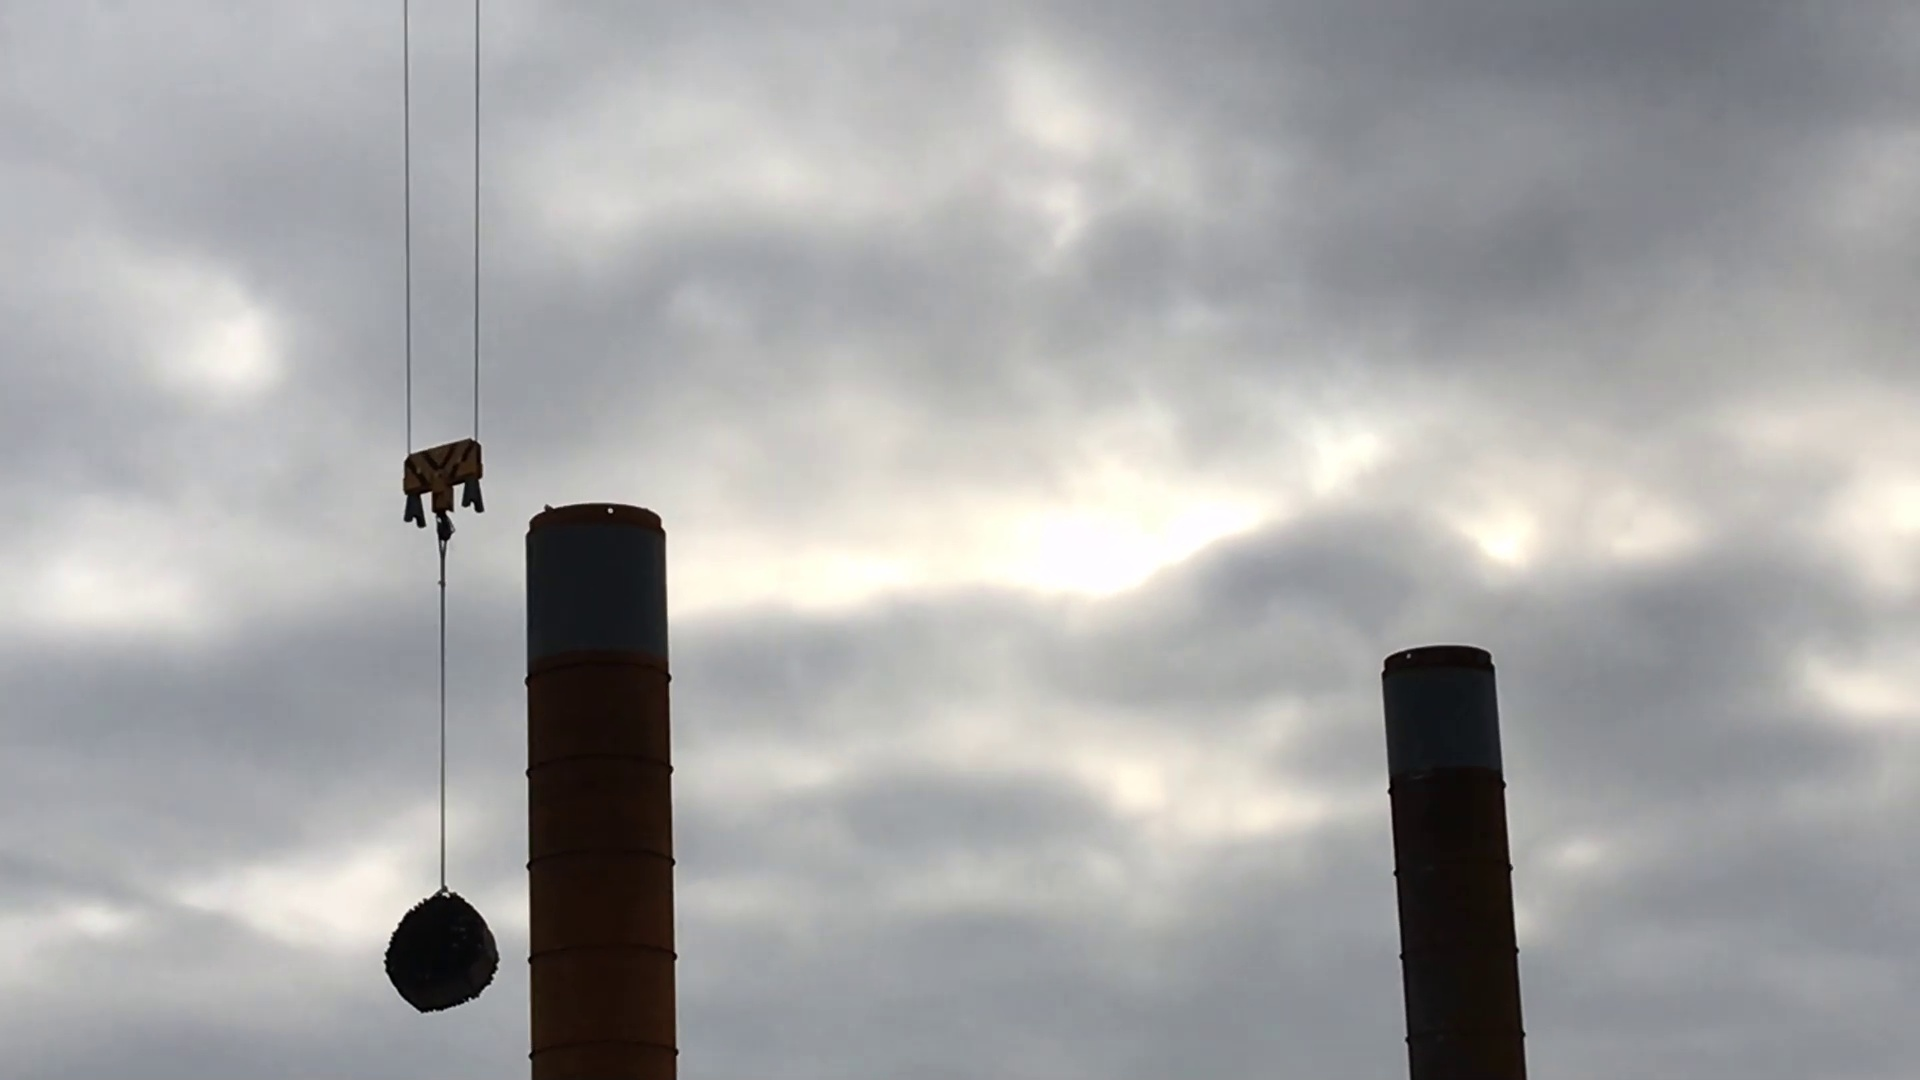hook: (386, 435, 491, 537)
